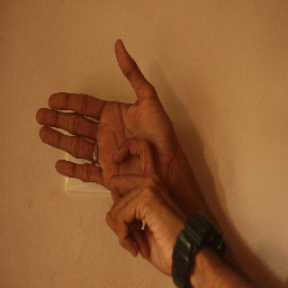R: (32, 34, 190, 264)
